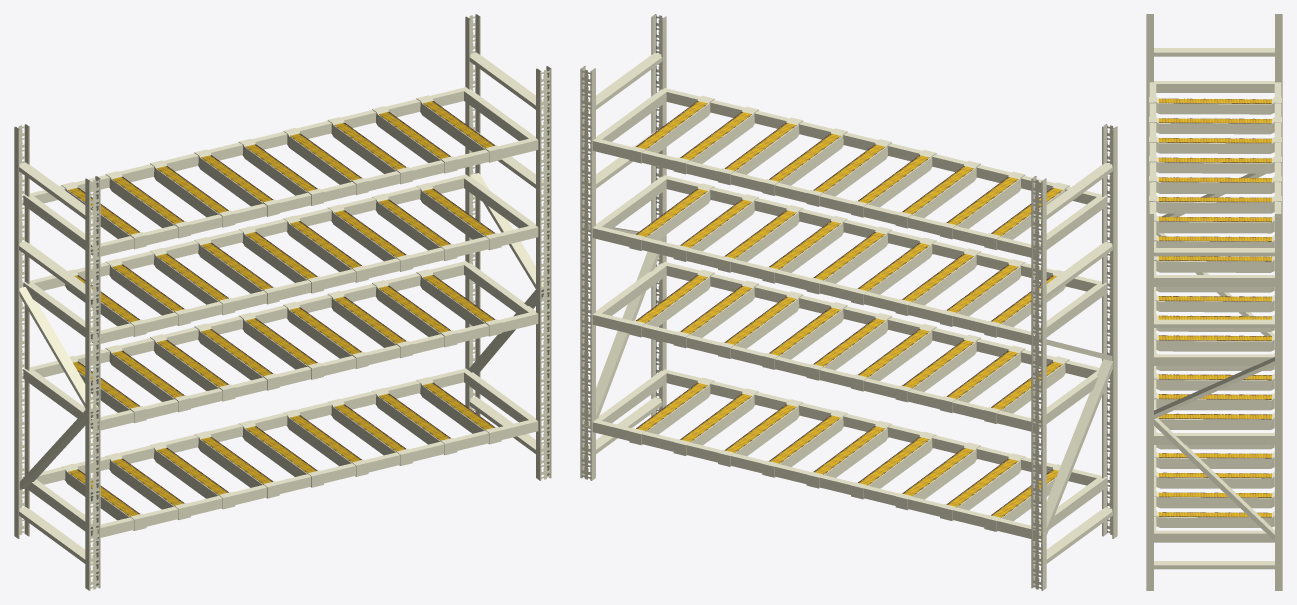
Rendered from JiaZi_02.FBX.
The picture shows the model from 3 angles, left to right: view 1: azimuth 30°, elevation 25°; view 2: azimuth 150°, elevation 25°; view 3: azimuth 270°, elevation 25°; orthographic projection. The views are drawn at different scales.
Parts seen in each view (by area): view 1: JiaZi_02; view 2: JiaZi_02; view 3: JiaZi_02.
Part boxes in pixels (x1,y1,x2,y2): JiaZi_02: [14, 14, 551, 590]; JiaZi_02: [580, 14, 1117, 590]; JiaZi_02: [1146, 14, 1282, 590].
Bounding box in the file's own units: 456 × 386 × 128.
